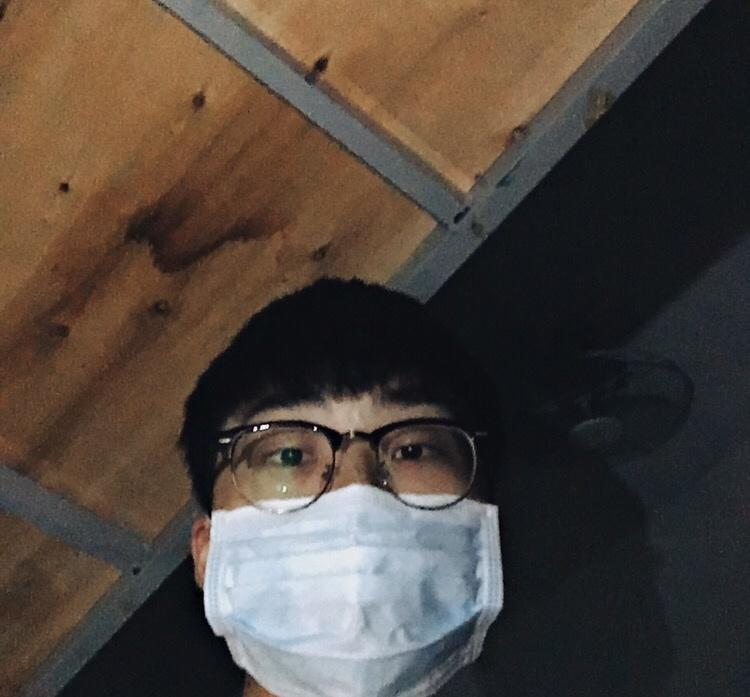OK: (199, 390, 502, 693)
